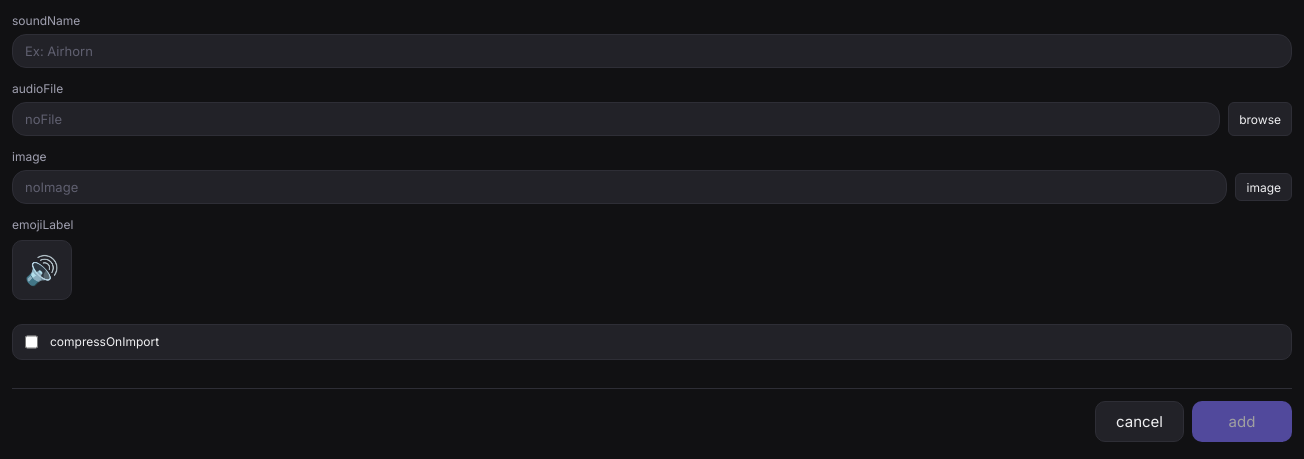
Test: ManualTab › emoji › ne devrait PAS afficher l'emoji picker si une image est sélectionnée
The width and height of the screenshot is (1304, 459).
Click the button "image".
click(1264, 187)  # box [1236, 173, 1292, 201]
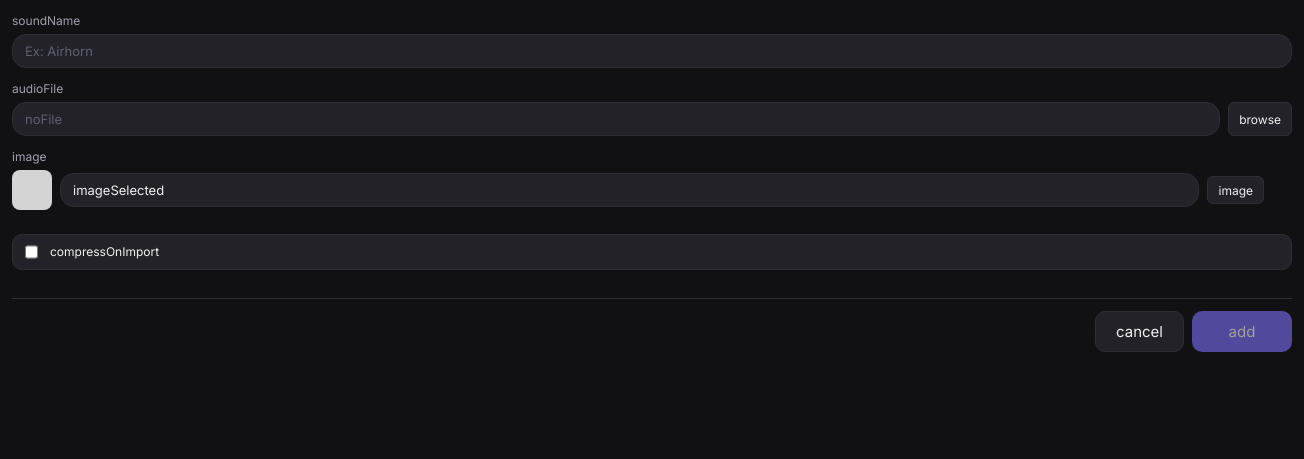
Now the button with test id "import-modal-emoji-picker-button" is gone
